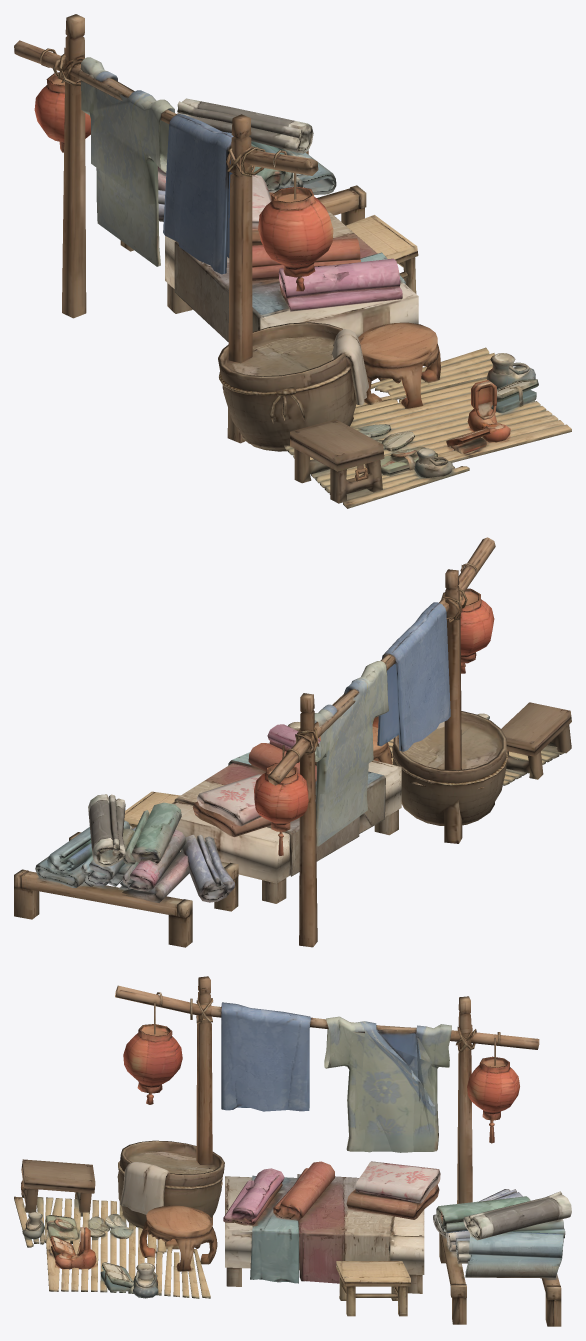
File: 日用小摊贩.glb
3 renders of one model, top to bottom at view 1: azimuth 30°, elevation 25°; view 2: azimuth 150°, elevation 25°; view 3: azimuth 270°, elevation 25°, orthographic. The views are drawn at different scales.
Visible parts, largest first — view 1: tripo_node_ca5635a1-21e1-4d49-9687-897a67982713; view 2: tripo_node_ca5635a1-21e1-4d49-9687-897a67982713; view 3: tripo_node_ca5635a1-21e1-4d49-9687-897a67982713.
Boxes of the visible parts, x1,y1,x2,y2 form: tripo_node_ca5635a1-21e1-4d49-9687-897a67982713: (14,14,571,508); tripo_node_ca5635a1-21e1-4d49-9687-897a67982713: (14,537,571,947); tripo_node_ca5635a1-21e1-4d49-9687-897a67982713: (14,976,571,1326).
Bounding box in the file's own units: 0.5181 × 0.4849 × 0.9995.
Materials: 1 (1 with a texture image).
